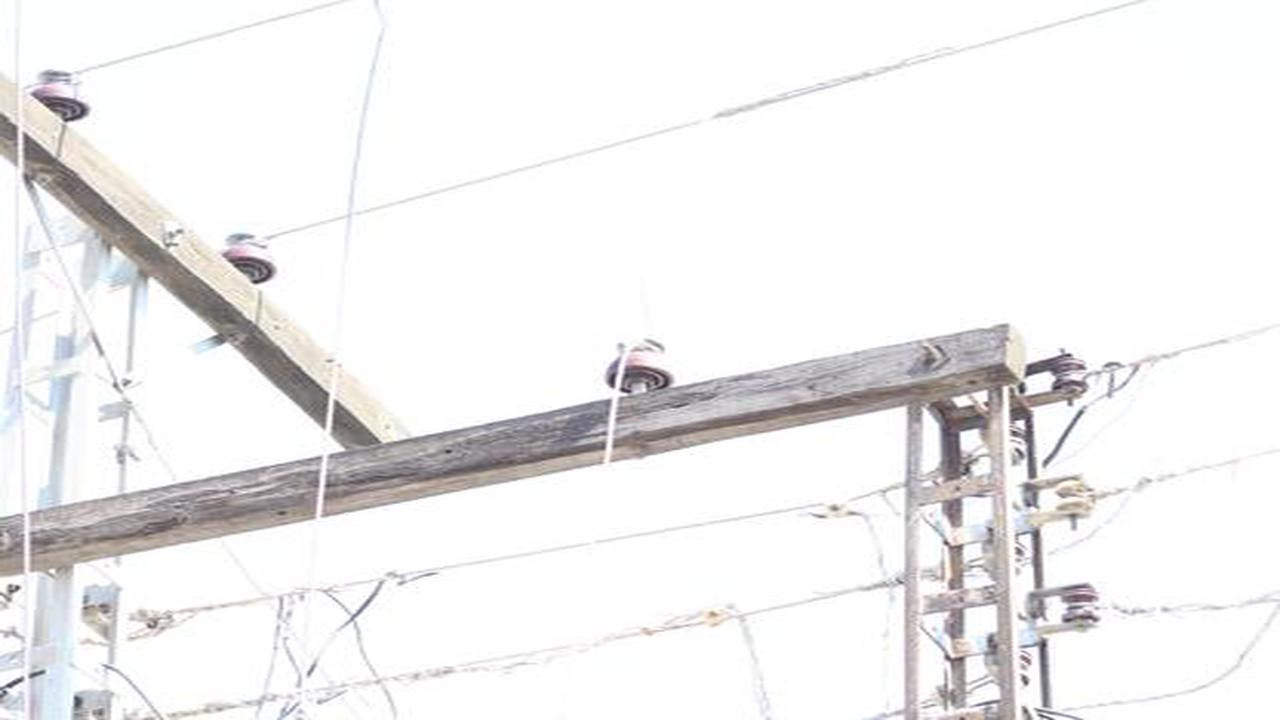insulator_pin: (602, 334, 679, 397), (31, 65, 93, 126), (219, 227, 281, 284)
